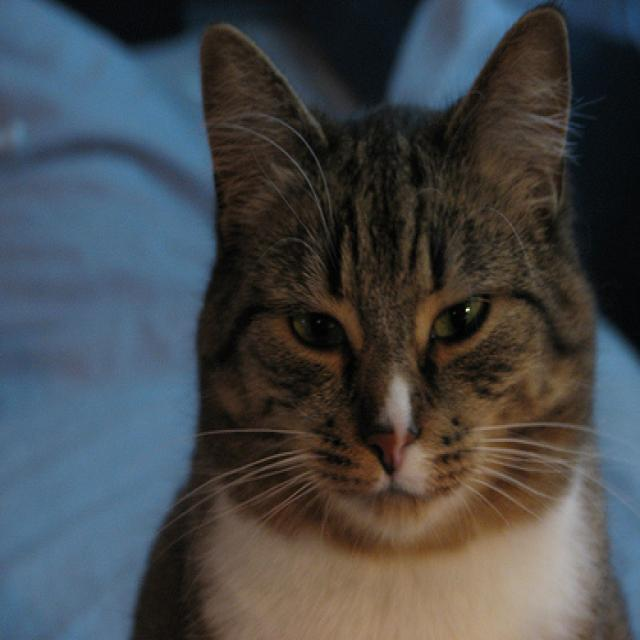cat: (129, 3, 636, 639)
